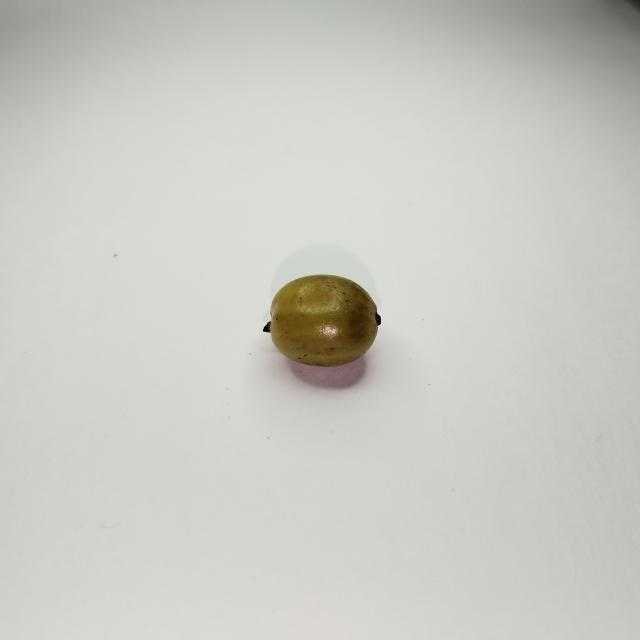Sano: (263, 275, 380, 366)
